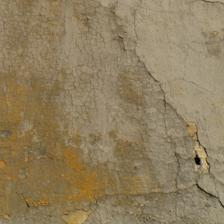Crack: (129, 44, 224, 216), (184, 2, 219, 136), (55, 21, 94, 138)
